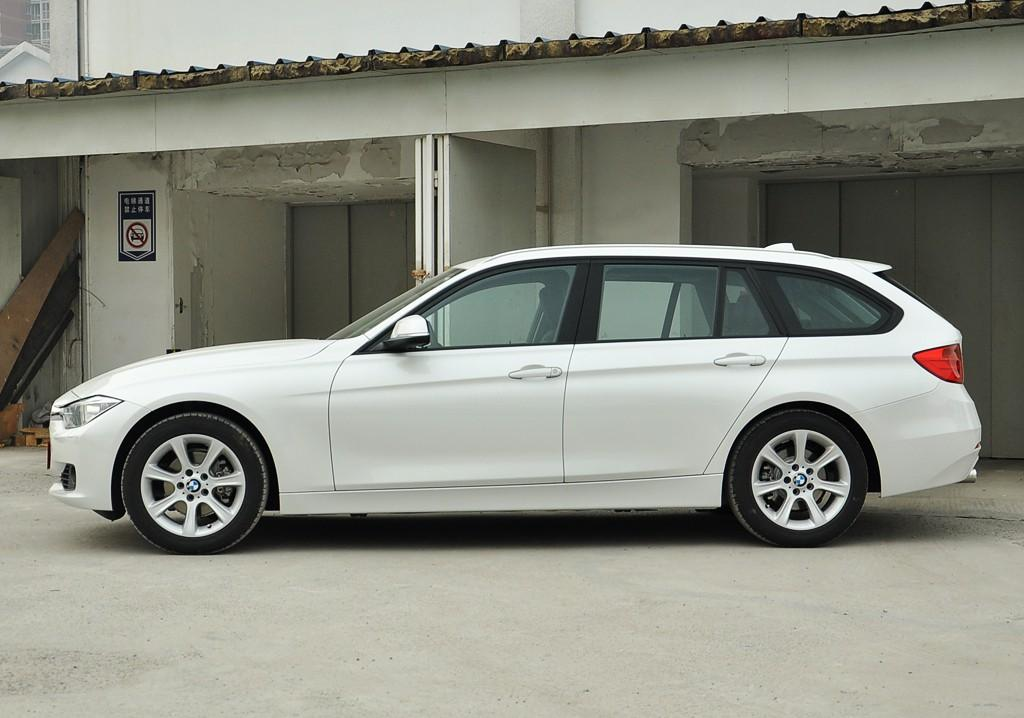Wagon: (46, 240, 984, 546)
